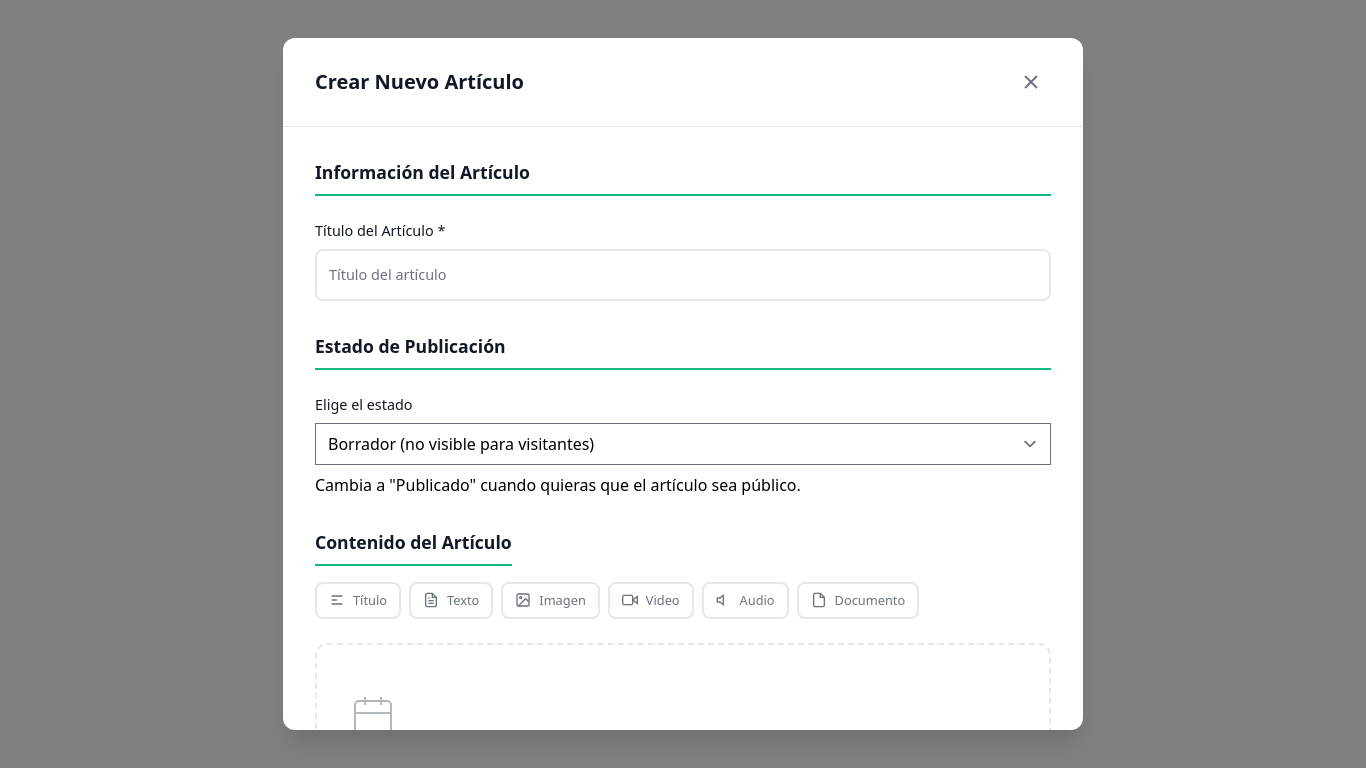
Test: BlogPostForm › Element Management › should add image element when image button is clicked
Click the button "Imagen": [551, 600] box x1=501 y1=582 x2=600 y2=619
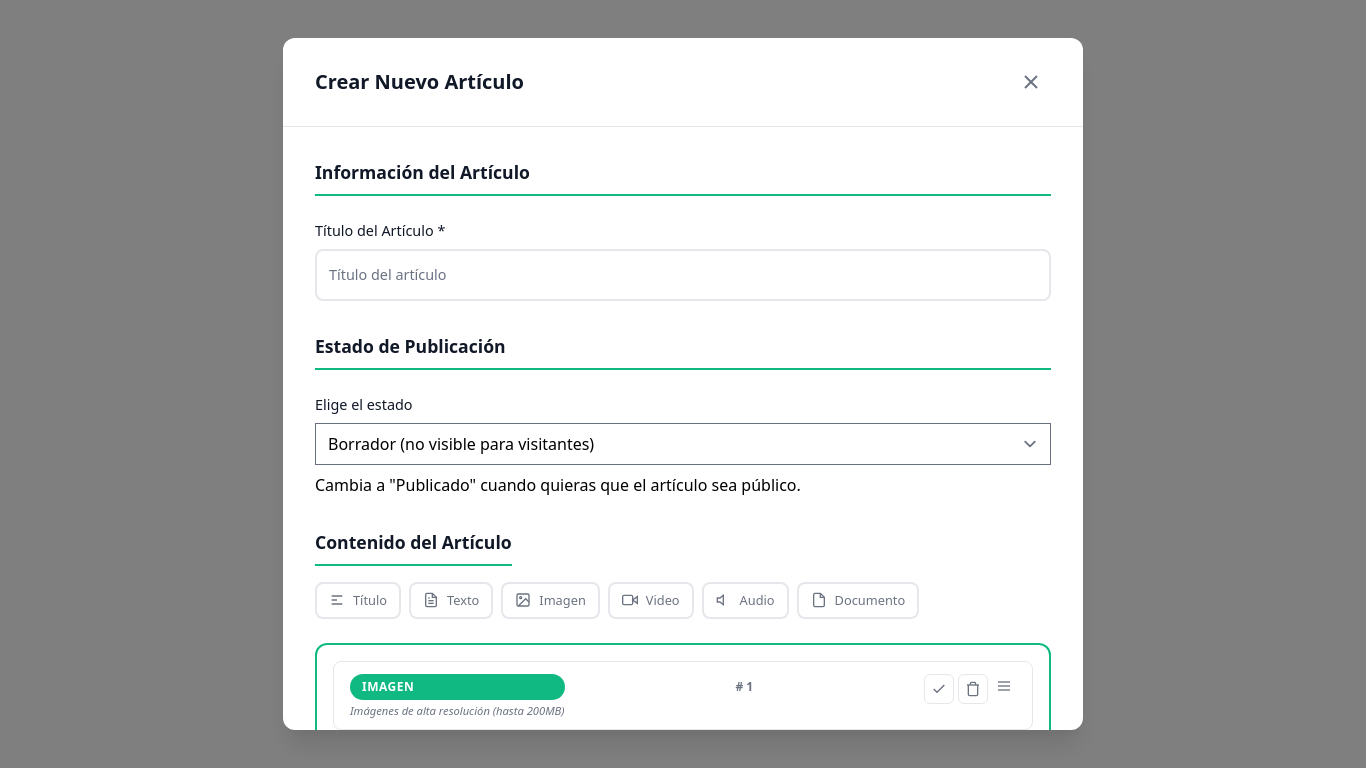
Expected: the text "Imagen" is shown, x1=350 y1=674 x2=564 y2=700
